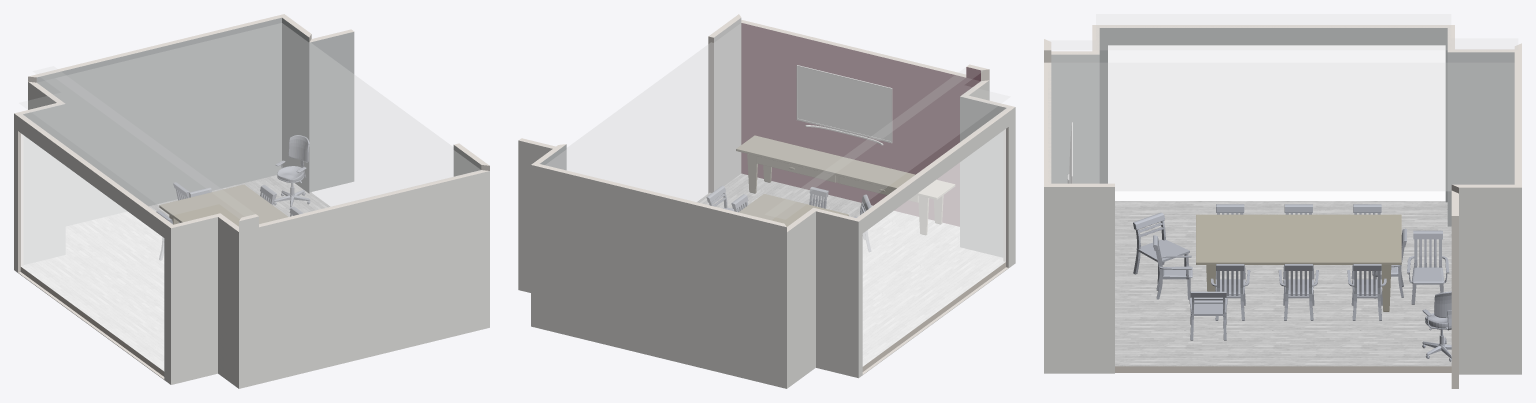
The picture shows the model from 3 angles, left to right: view 1: azimuth 30°, elevation 25°; view 2: azimuth 150°, elevation 25°; view 3: azimuth 270°, elevation 25°; orthographic projection. The views are drawn at different scales.
Visible parts, largest first — view 1: ceiling_Conference Room_4, ceiling_Conference Room_2, wall_4, wall_10, door_0, door_2, floor_Conference Room_0, wall_1, ceiling_Conference Room_3, wall_28, wall_22, wall_8 (+11 smaller); view 2: ceiling_Conference Room_4, ceiling_Conference Room_2, wall_0, wall_18, door_0, door_2, floor_Conference Room_0, ceiling_Conference Room_3, wall_6, table_other_rect0, wall_12, television0 (+11 smaller); view 3: ceiling_Conference Room_4, ceiling_Conference Room_2, door_0, door_2, floor_Conference Room_0, wall_2, wall_7, table_dining_rect0, ceiling_Conference Room_3, wall_16, wall_26, wall_20 (+16 smaller).
Part boxes in pixels (x1,y1,x2,y2): ceiling_Conference Room_4: (20,23,479,225); ceiling_Conference Room_2: (57,23,481,223); wall_4: (239,171,489,388); wall_10: (36,17,281,225); door_0: (21,134,163,370); door_2: (21,134,163,370); floor_Conference Room_0: (21,175,329,370); wall_1: (171,217,217,384); ceiling_Conference Room_3: (19,71,217,214); wall_28: (309,32,354,192); wall_22: (23,104,65,264); wall_8: (14,113,170,384); ceiling_Conference Room_4: (547,23,1009,225); ceiling_Conference Room_2: (546,23,953,219); wall_0: (531,165,786,388); wall_18: (741,23,980,226); door_0: (863,129,1005,365); door_2: (863,129,1005,365); floor_Conference Room_0: (697,173,1004,365); ceiling_Conference Room_3: (782,86,1009,218); wall_6: (816,211,858,377); table_other_rect0: (736,135,954,234); wall_12: (960,96,1006,257); television0: (796,65,892,145); ceiling_Conference Room_4: (1048,28,1513,190); ceiling_Conference Room_2: (1048,63,1513,190); door_0: (1108,45,1445,200); door_2: (1108,46,1445,200); floor_Conference Room_0: (1115,201,1451,366); wall_2: (1044,187,1114,373); wall_7: (1459,187,1521,374); table_dining_rect0: (1196,214,1401,311); ceiling_Conference Room_3: (1096,14,1517,39); wall_16: (1447,52,1514,226); wall_26: (1099,28,1447,202); wall_20: (1051,54,1099,183).
Bounding box in the file's own units: 6.18 × 2.92 × 6.53.
40 materials, 1 textured.
